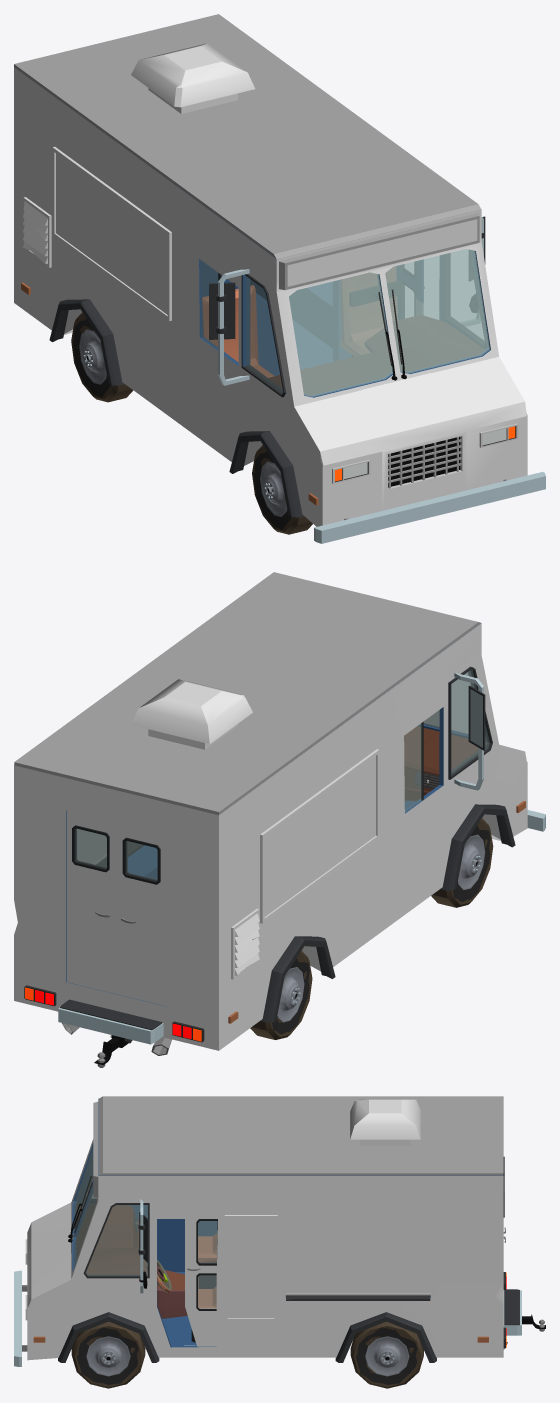
Rendered from FoodTruckShort.fbx.
3 renders of one model, top to bottom at view 1: azimuth 30°, elevation 25°; view 2: azimuth 150°, elevation 25°; view 3: azimuth 270°, elevation 25°, orthographic. The views are drawn at different scales.
Visible parts, largest first — view 1: Main_Body, Board_2, Dash, Roof_Vent, Seat, Wheel_RL1, Wheel_FL1, Seat1, Side_Door; view 2: Main_Body, Board_2, Rear_Door_L, Rear_Door_R, Roof_Vent, Dash, Wheel_FL1, Wheel_RL1, Sliding_Door; view 3: Main_Body, Sliding_Door, Board_1, Side_Door, Wheel_FL, Wheel_RL, Roof_Vent, Dash, Seat1, Seat.
Part boxes in pixels (box(x1,y1,x2,y2)): Main_Body: box(14, 14, 545, 543); Board_2: box(52, 146, 171, 321); Dash: box(269, 315, 484, 394); Roof_Vent: box(131, 43, 255, 113); Seat: box(340, 266, 397, 356); Wheel_RL1: box(71, 312, 133, 402); Wheel_FL1: box(252, 445, 312, 534); Seat1: box(202, 285, 273, 377); Side_Door: box(402, 260, 423, 315); Main_Body: box(14, 572, 545, 1055); Board_2: box(260, 749, 379, 923); Rear_Door_L: box(66, 811, 116, 993); Rear_Door_R: box(116, 823, 166, 1006); Roof_Vent: box(131, 679, 252, 749); Dash: box(404, 726, 477, 800); Wheel_FL1: box(431, 818, 493, 907); Wheel_RL1: box(250, 950, 312, 1039); Sliding_Door: box(77, 829, 106, 864); Main_Body: box(14, 1096, 521, 1366); Sliding_Door: box(285, 1217, 430, 1295); Board_1: box(224, 1215, 277, 1323); Side_Door: box(185, 1219, 217, 1346); Wheel_FL: box(71, 1321, 145, 1388); Wheel_RL: box(350, 1321, 423, 1388); Roof_Vent: box(350, 1099, 420, 1145); Dash: box(77, 1203, 147, 1274); Seat1: box(198, 1233, 216, 1288); Seat: box(186, 1286, 216, 1342).
Size of the model in its own units: 320 by 351 by 689.
